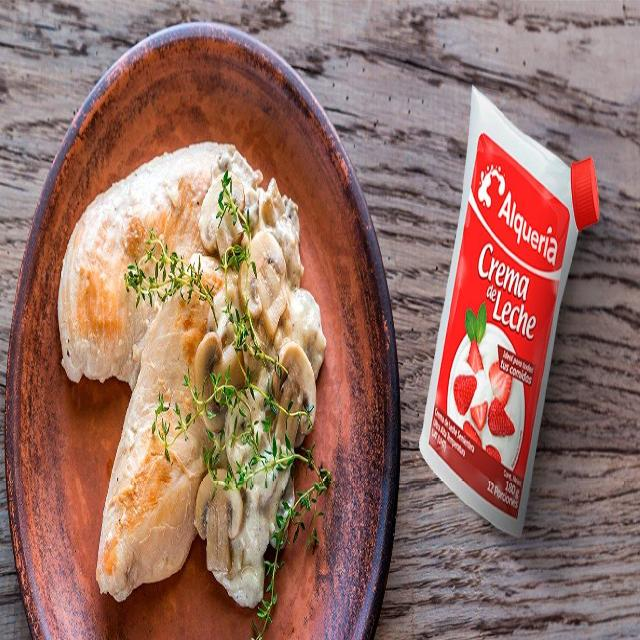pollo: (60, 144, 279, 398)
